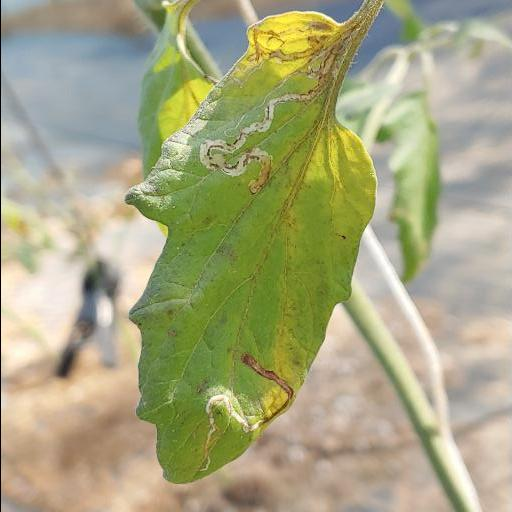disease_tomato: (122, 1, 386, 486)
